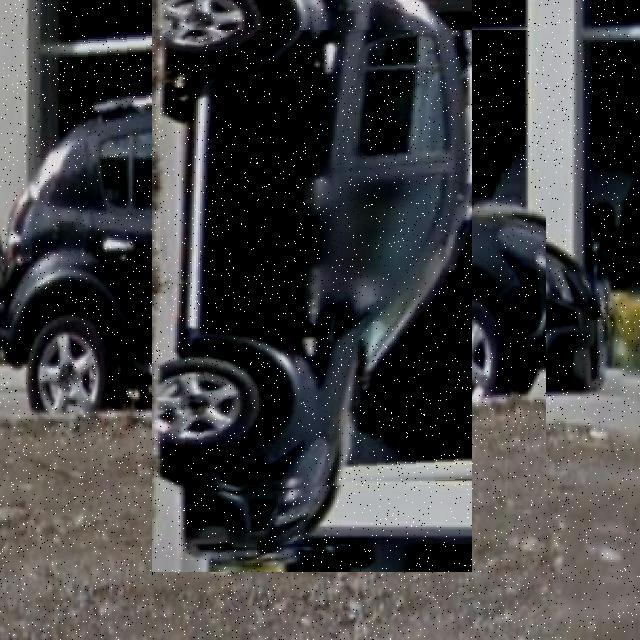car: (79, 31, 547, 500)
